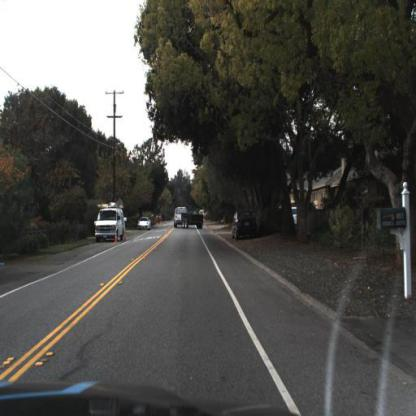car: (93, 199, 127, 247), (231, 209, 262, 241), (170, 205, 207, 230), (138, 215, 153, 232)
pedestrian: (117, 143, 127, 161)
